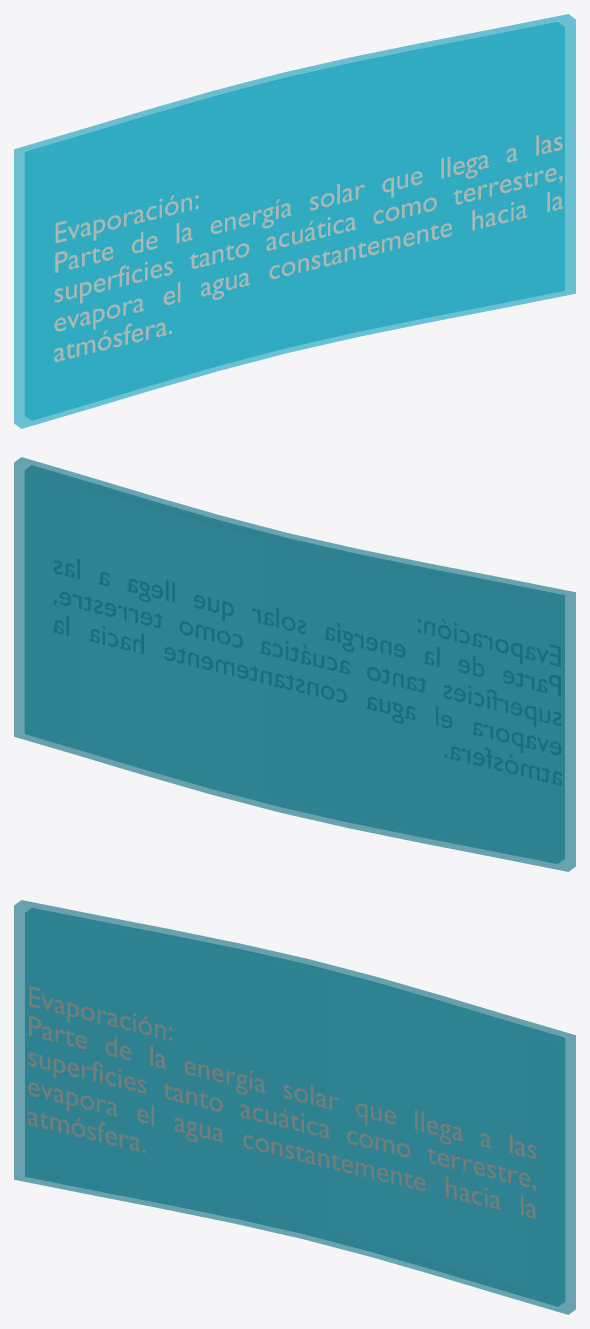
File: eva.glb
3 renders of one model, top to bottom at view 1: azimuth 30°, elevation 25°; view 2: azimuth 150°, elevation 25°; view 3: azimuth 330°, elevation 25°, orthographic.
Visible parts, largest first — view 1: Cube, Evaporacion; view 2: Cube, Evaporacion; view 3: Cube, Evaporacion.
Boxes of the visible parts, bbox=[...] form: Cube: bbox=[14, 14, 575, 428]; Evaporacion: bbox=[54, 135, 563, 361]; Cube: bbox=[14, 457, 575, 871]; Evaporacion: bbox=[54, 559, 561, 784]; Cube: bbox=[14, 900, 575, 1314]; Evaporacion: bbox=[28, 986, 536, 1218].
Size of the model in its own units: 4.23 by 2 by 0.3736.
